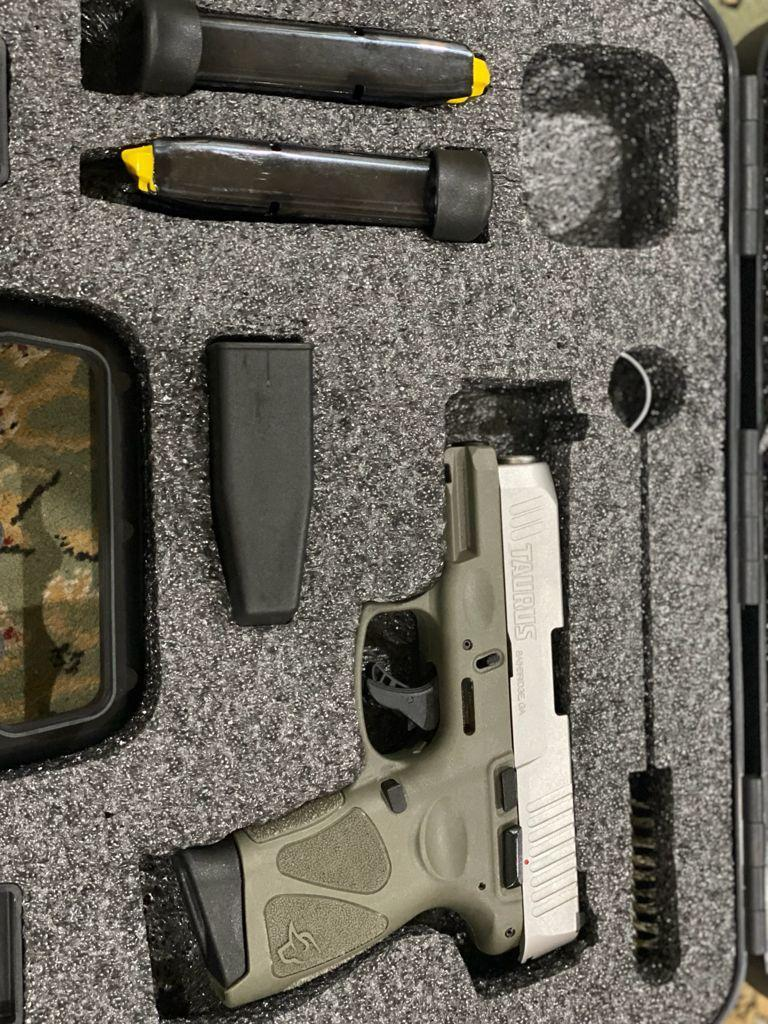weapon: (172, 440, 588, 1013)
